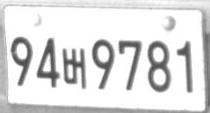1: (175, 40, 199, 92)
4: (36, 37, 61, 88)
7: (118, 39, 142, 90)
8: (147, 39, 172, 93)
9: (91, 38, 115, 90), (9, 36, 33, 86)
버: (61, 47, 86, 89)
